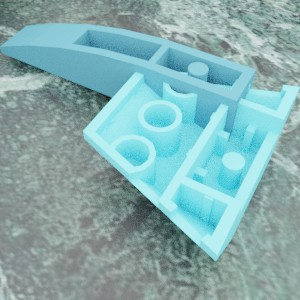lego: (83, 67, 299, 261), (0, 23, 256, 143)
